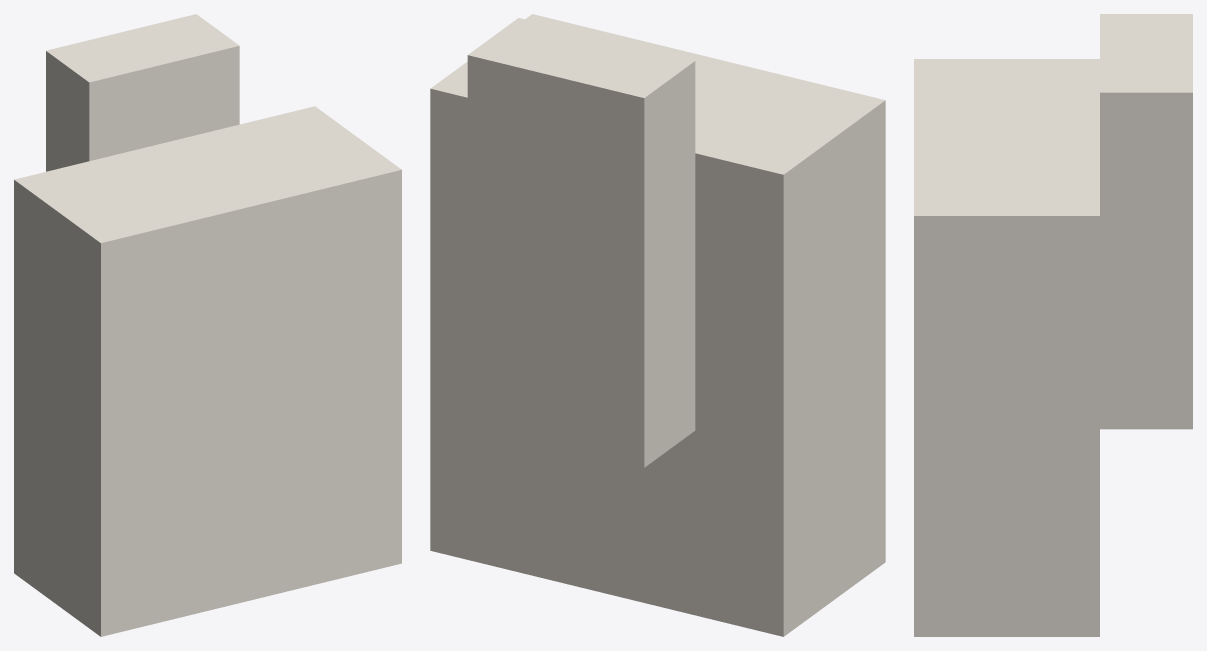
Rendered from chicken__tail.glb.
3 renders of one model, left to right at view 1: azimuth 30°, elevation 25°; view 2: azimuth 150°, elevation 25°; view 3: azimuth 270°, elevation 25°, orthographic. The views are drawn at different scales.
Visible parts, largest first — view 1: chicken__tail; view 2: chicken__tail; view 3: chicken__tail.
Part boxes in pixels (bbox=[...]): chicken__tail: bbox=[14, 14, 401, 636]; chicken__tail: bbox=[430, 14, 885, 636]; chicken__tail: bbox=[914, 14, 1192, 636].
Bounding box in the file's own units: 0.4 × 0.6 × 0.3.
Materials: 1 (1 with a texture image).
